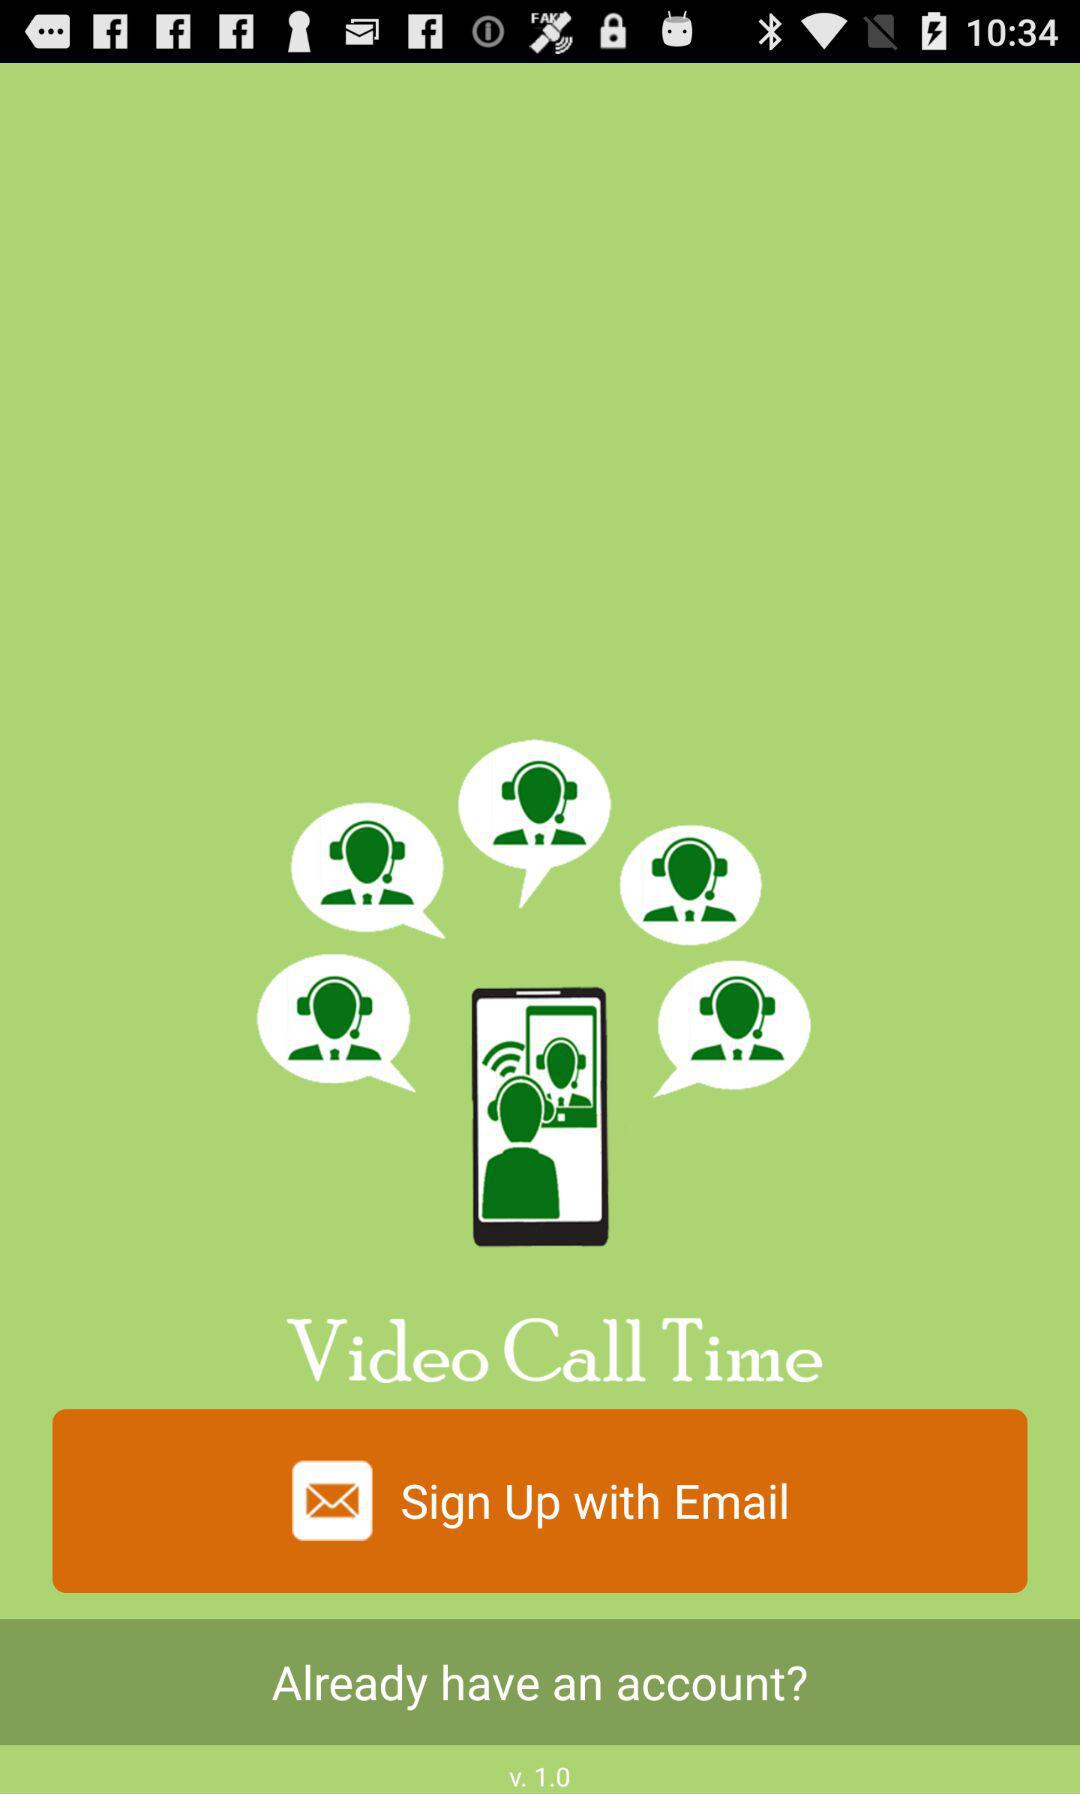Image: (258, 739, 812, 1248)
Text: (284, 1316, 825, 1385), (507, 1767, 571, 1790)
TextButton: (53, 1410, 1027, 1594), (1, 1618, 1080, 1745)
UpperTaskBar: (1, 1, 1080, 64)
